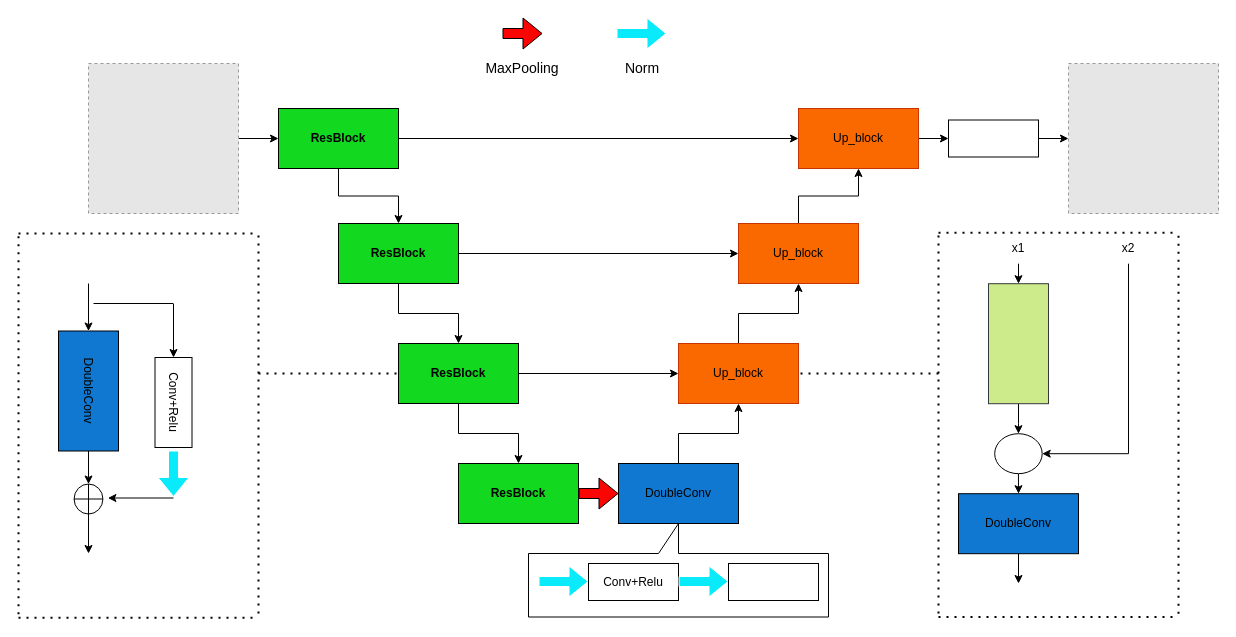
This 1236x637 diagram has some shape labels left out. Grey dashed boxes stand in for pictures. The centre of each missing label's shape, as x and y in pixels:
"concat" belongs at point (1018, 453).
"Conv" belongs at point (993, 138).
"Conv +Relu" belongs at point (773, 581).
"Conv+Pixelshuffle" belongs at point (1018, 343).
